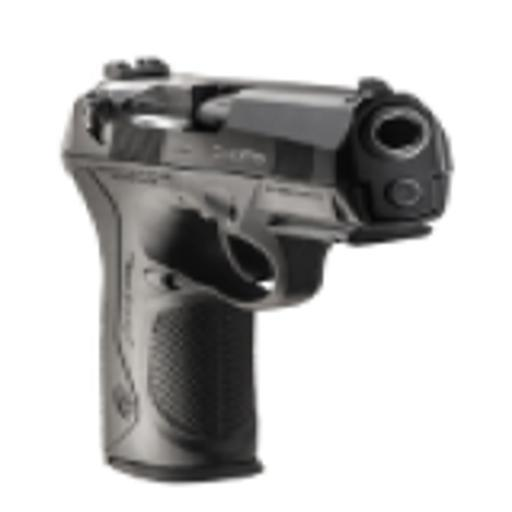Handgun: (63, 50, 453, 481)
